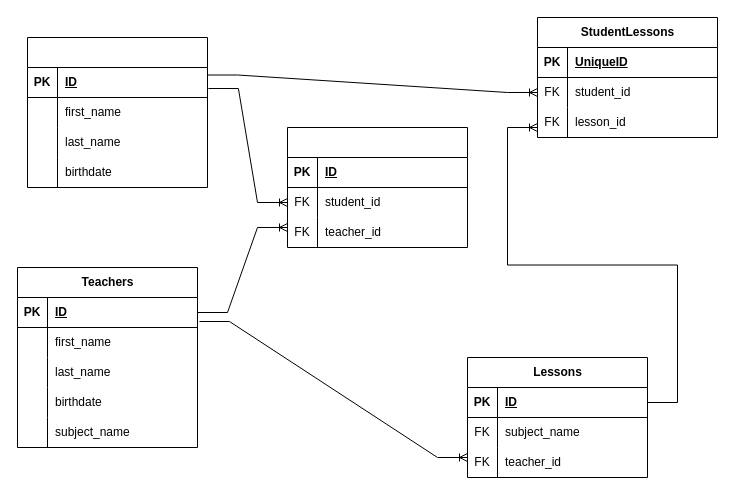
Image size: 735x495. Some labels were removed from this diagram. Each missing label, with the box of its shape:
Students: (26, 36, 208, 188)
StudentsTeachers: (286, 126, 468, 248)
